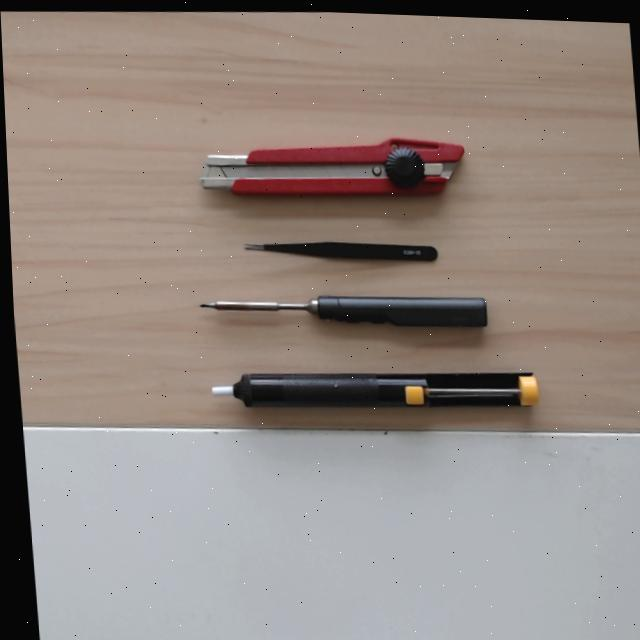Cutter-Besar: (199, 135, 466, 200)
Desoldering-Pump: (210, 372, 538, 407)
Soldering-Iron: (200, 294, 488, 326)
Tweezers: (241, 237, 439, 263)
